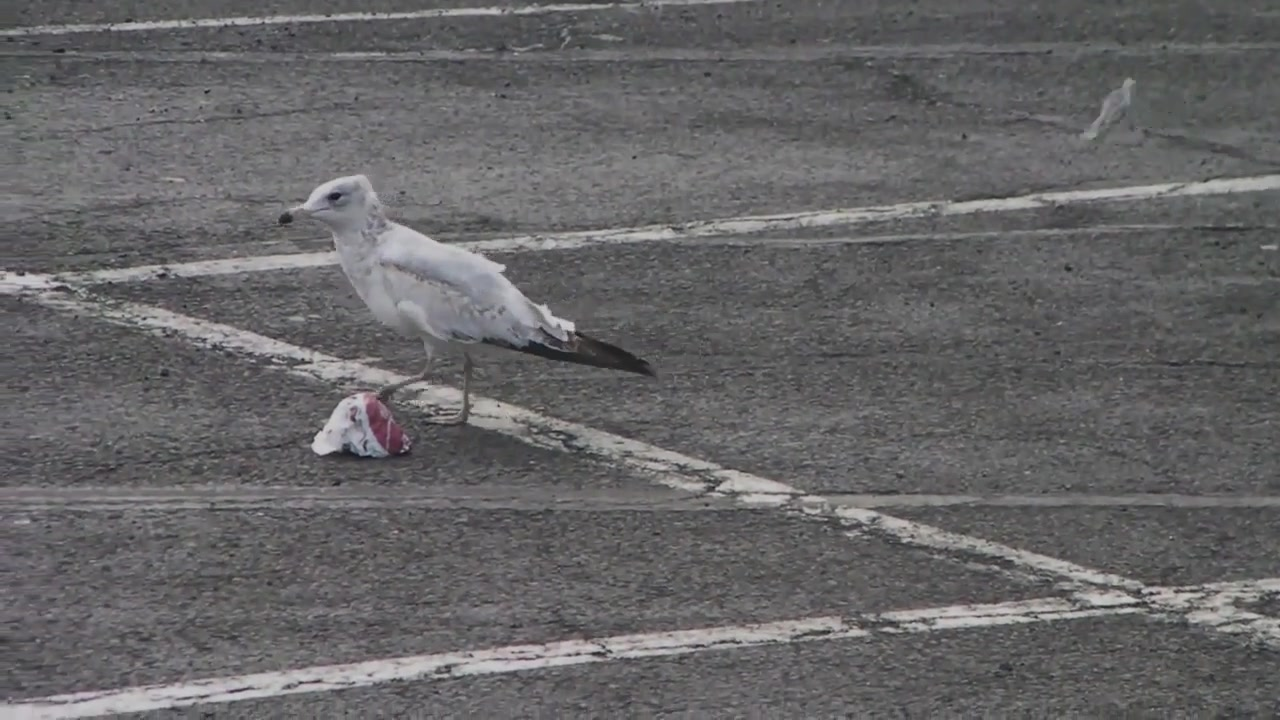bird: (278, 174, 659, 427)
